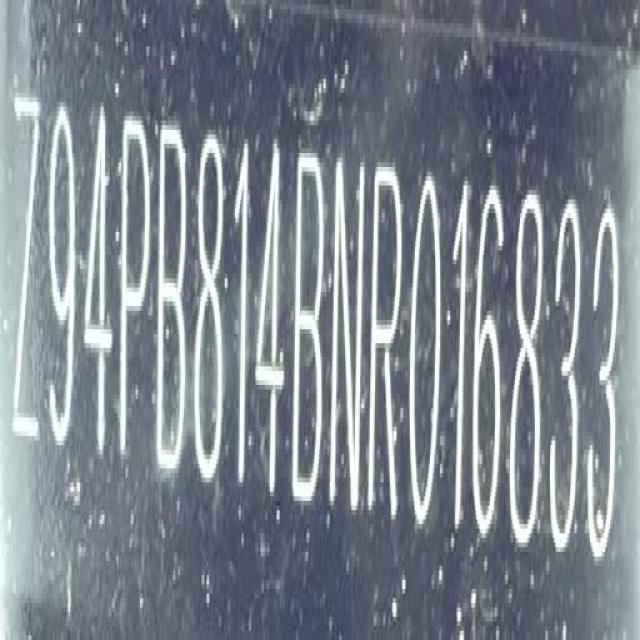0: (410, 169, 444, 536)
1: (448, 175, 472, 534), (233, 131, 250, 495)
3: (592, 199, 624, 565), (551, 193, 581, 562)
4: (82, 106, 114, 471), (257, 134, 287, 498)
6: (474, 180, 506, 546)
8: (513, 188, 545, 555), (197, 130, 227, 491)
9: (49, 102, 80, 461)
B: (158, 116, 191, 484), (294, 146, 327, 510)
N: (330, 150, 364, 520)
P: (120, 111, 155, 479)
R: (371, 155, 404, 526)
Z: (11, 86, 43, 456)
